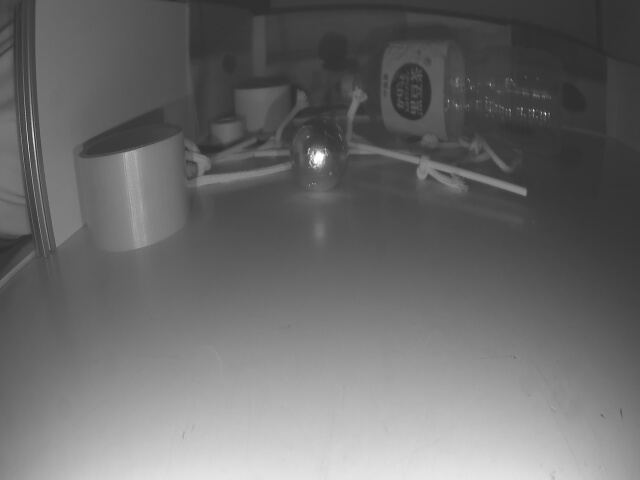Live: (292, 118, 348, 192)
